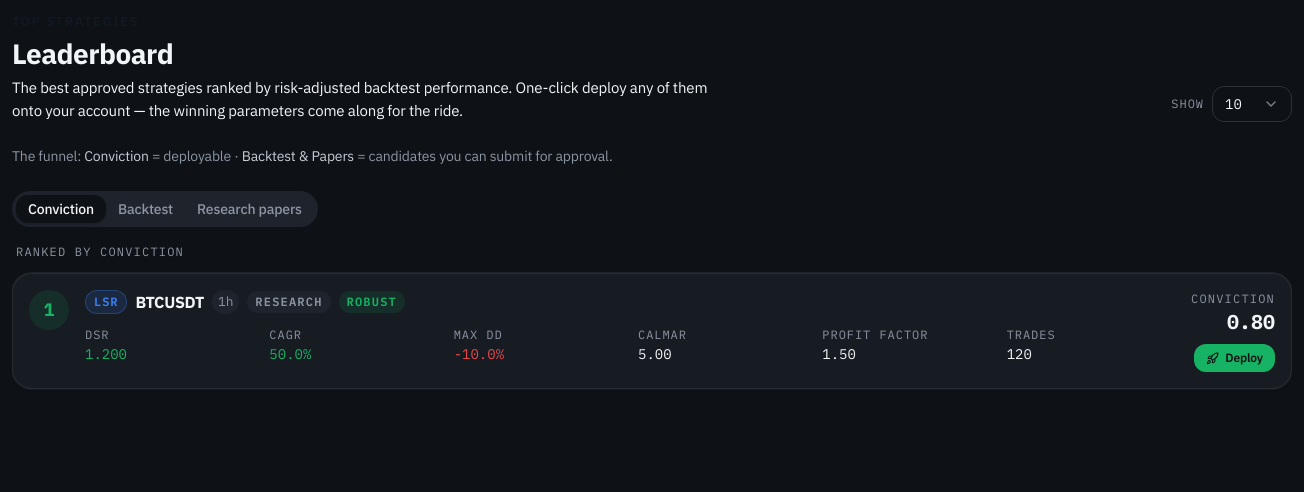
Test: LeaderboardPage — filter by active account type › TRADING account shows only trading strategies across all three tabs
Expected: the text "BTCUSDT" is shown, [136, 290, 204, 314]
Step 1. Click the tab "Backtest" → click(146, 209), box [106, 195, 185, 223]
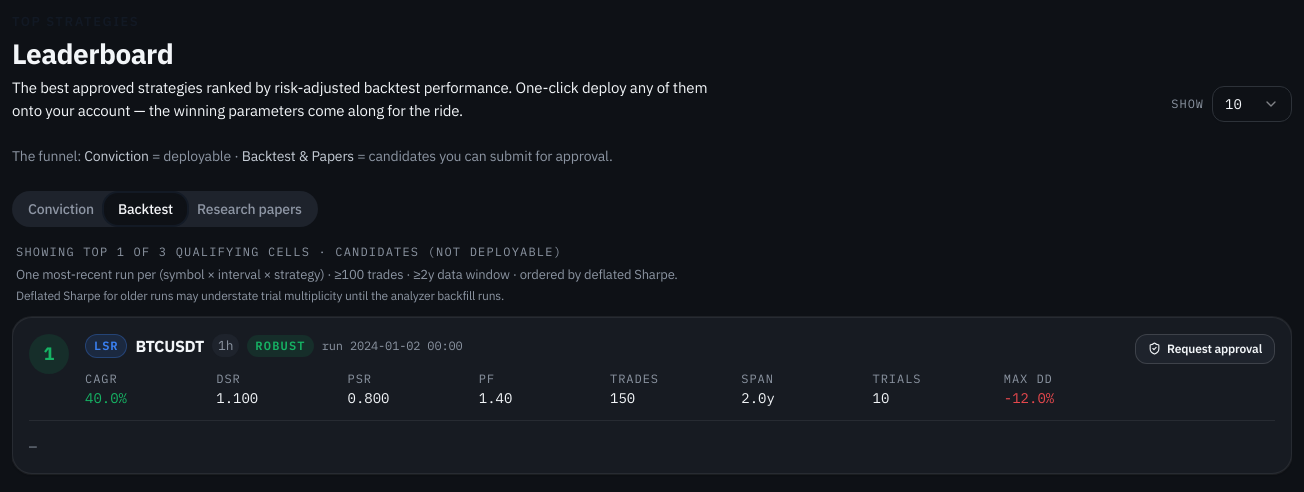
Expected: the text "BTCUSDT" is shown, [136, 334, 204, 358]
Step 2. Click the tab "Research papers" → click(249, 209), box [185, 195, 314, 223]
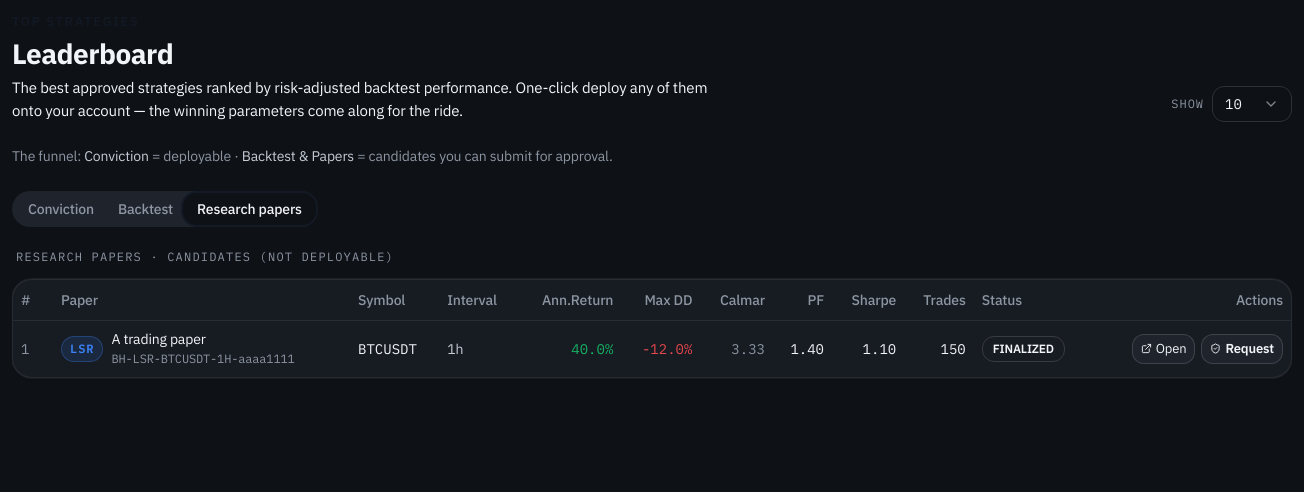
Expected: the text "BTCUSDT" is shown, [350, 320, 439, 377]
